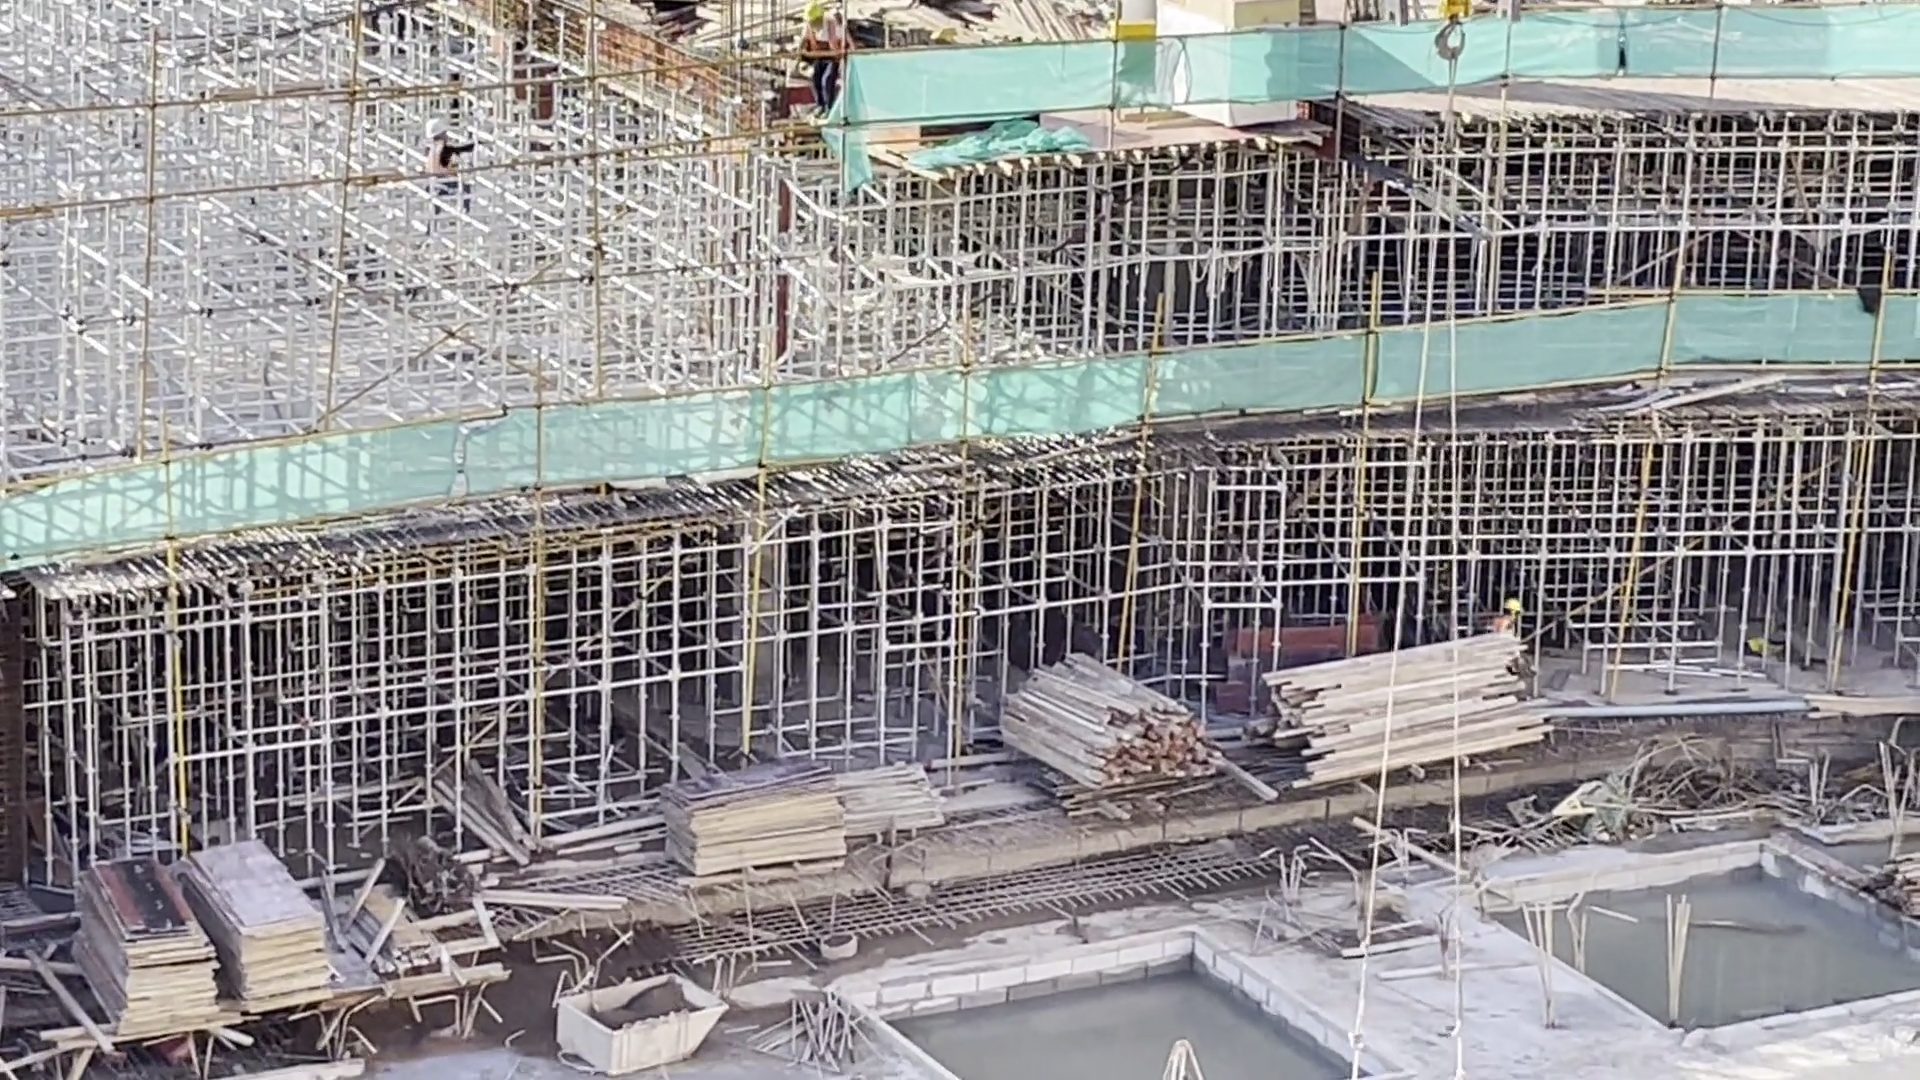board: (181, 834, 340, 1016), (70, 850, 225, 1035), (648, 756, 848, 883)
helmet: (802, 2, 826, 24), (425, 118, 449, 137), (1501, 598, 1521, 614)
hook: (1414, 1, 1488, 69)
hopper: (555, 965, 730, 1078)
person: (421, 116, 476, 171), (790, 2, 844, 51), (1489, 598, 1526, 634)
wood: (1260, 643, 1551, 769), (993, 649, 1223, 794)
